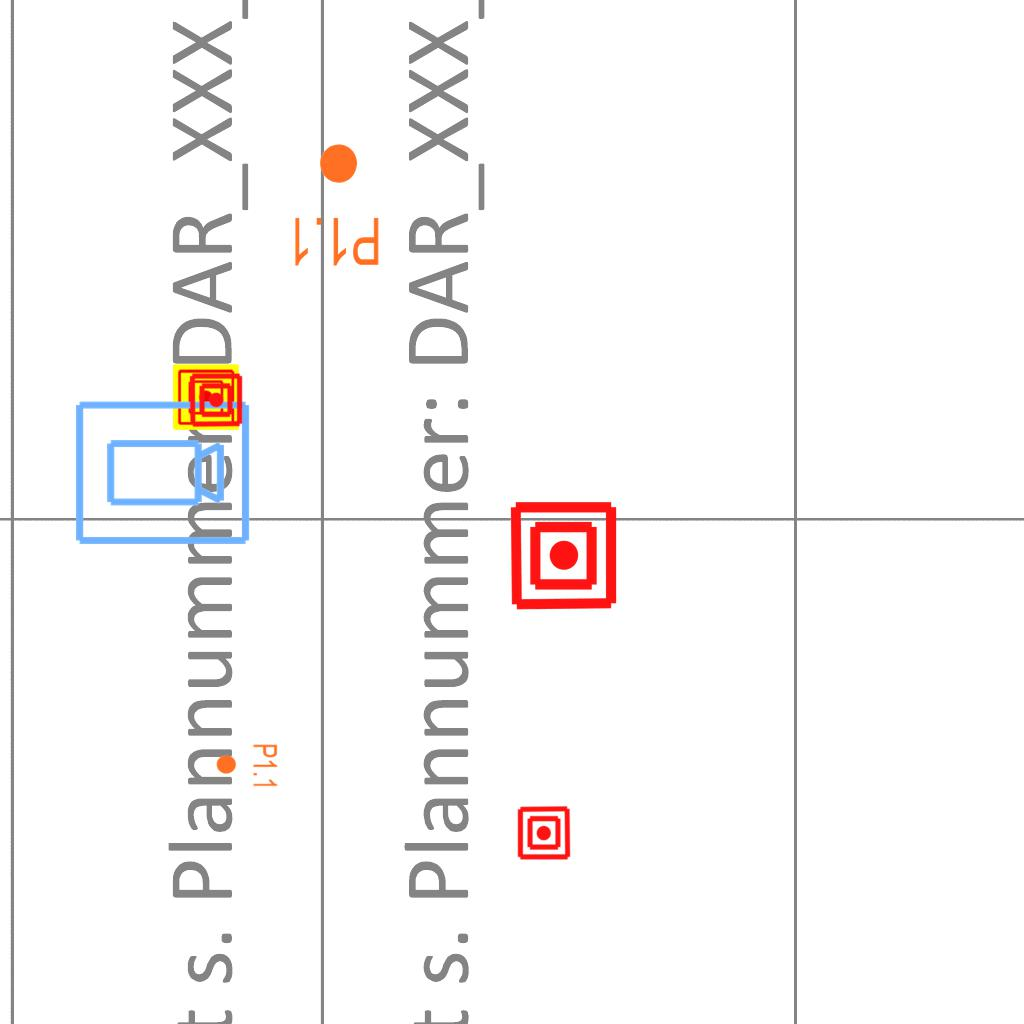Downlight_LED_Einbauleuchten_Flur: (289, 141, 382, 269), (215, 743, 279, 789)
KFO_Kamera_mit_Festobjektiv: (71, 397, 253, 551)
NAM-Nichtautomatischer_Melder: (507, 499, 620, 612), (173, 364, 239, 430), (516, 805, 572, 861), (188, 372, 244, 428)
